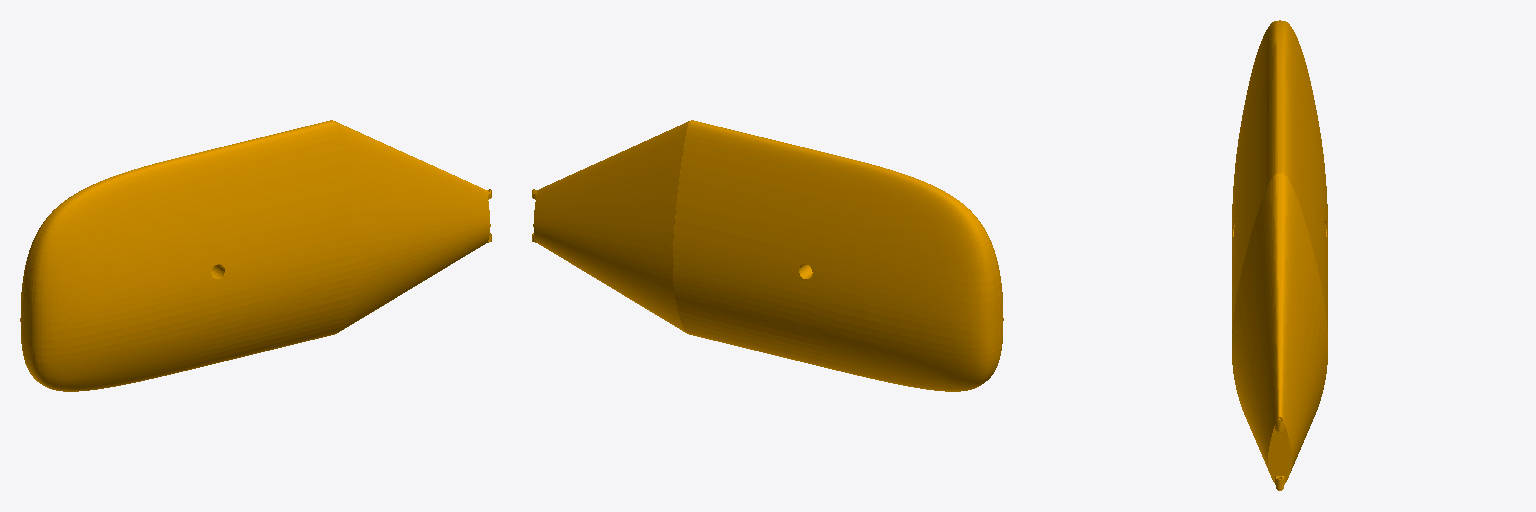
robot.urdf — simple_fish:
<robot name="simple_fish">

  <!-- ▸ BODY (parent link) -->
  <link name="body">
    <inertial>
      <mass value="0.15"/>
      <inertia ixx="2e-4" iyy="2e-4" izz="2e-4"/>
    </inertial>
    <visual>
      <geometry>
        <mesh filename="meshes/Body_Fish.stl" scale="0.001 0.001 0.001"/>
      </geometry>
    </visual>
    <collision>
      <geometry>
        <mesh filename="meshes/Body_Fish.stl" scale="0.001 0.001 0.001"/>
      </geometry>
    </collision>
  </link>

  <!-- ▸ TAIL (hinged) -->
  <link name="tail">
    <inertial>
      <mass value="0.05"/>
      <inertia ixx="5e-5" iyy="5e-5" izz="5e-5"/>
    </inertial>
    <visual>
      <geometry>
        <mesh filename="meshes/RearFin_Fish.stl" scale="0.001 0.001 0.001"/>
      </geometry>
    </visual>
    <collision>
      <geometry>
        <mesh filename="meshes/RearFin_Fish.stl" scale="0.001 0.001 0.001"/>
      </geometry>
    </collision>
  </link>

  <!-- ▸ FRONT FIN (fixed) -->
  <link name="front_fin">
    <inertial>
      <mass value="0.02"/>
      <inertia ixx="2e-5" iyy="2e-5" izz="2e-5"/>
    </inertial>
    <visual>
      <geometry>
        <mesh filename="meshes/FrontFin_Fish.stl" scale="0.001 0.001 0.001"/>
      </geometry>
    </visual>
    <collision>
      <geometry>
        <mesh filename="meshes/FrontFin_Fish.stl" scale="0.001 0.001 0.001"/>
      </geometry>
    </collision>
  </link>

  <!-- revolute hinge: body ↔ tail -->
  <joint name="tail_hinge" type="revolute">
    <parent link="body"/>
    <child  link="tail"/>
    <origin xyz="0 -0.15 0" rpy="0 0 0"/>
    <axis xyz="0 0 1"/>
    <limit lower="-1.0" upper="1.0" effort="1.0" velocity="10.0"/>
  </joint>

  <!-- fixed joint: body ↔ front fin -->
  <joint name="fin_pin" type="fixed">
    <parent link="body"/>
    <child  link="front_fin"/>
    <origin xyz="0.05 0 -0.02" rpy="0 0 0"/>
  </joint>

</robot>

--- Render facts (derived) ---
The picture shows the robot from 3 angles, left to right: view 1: azimuth 30°, elevation 25°; view 2: azimuth 150°, elevation 25°; view 3: azimuth 270°, elevation 25°; orthographic projection.
Model simple_fish with 3 links and 2 joints (1 revolute, 1 fixed), rooted at body, posed every joint at zero.
Links seen in each view (by area): view 1: body; view 2: body; view 3: body.
Link boxes in pixels (x1,y1,x2,y2): body: [20, 120, 491, 391]; body: [532, 120, 1003, 391]; body: [1232, 20, 1327, 490].
Size in the robot's own frame: 0.2743 by 0.0367 by 0.12 metres.
Meshes: 3 distinct files referenced, 1 mesh visuals loaded (1 binary STL); not drawn: 2 (reference not matched to a file when rendering).